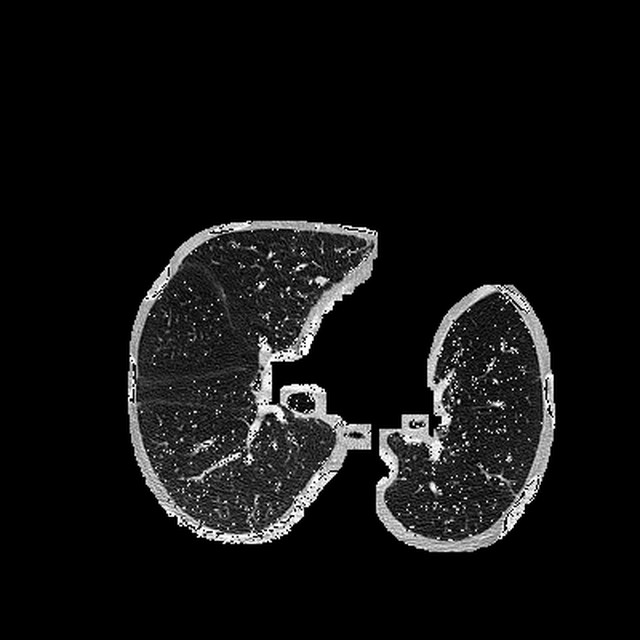PN: (315, 275, 325, 285)
